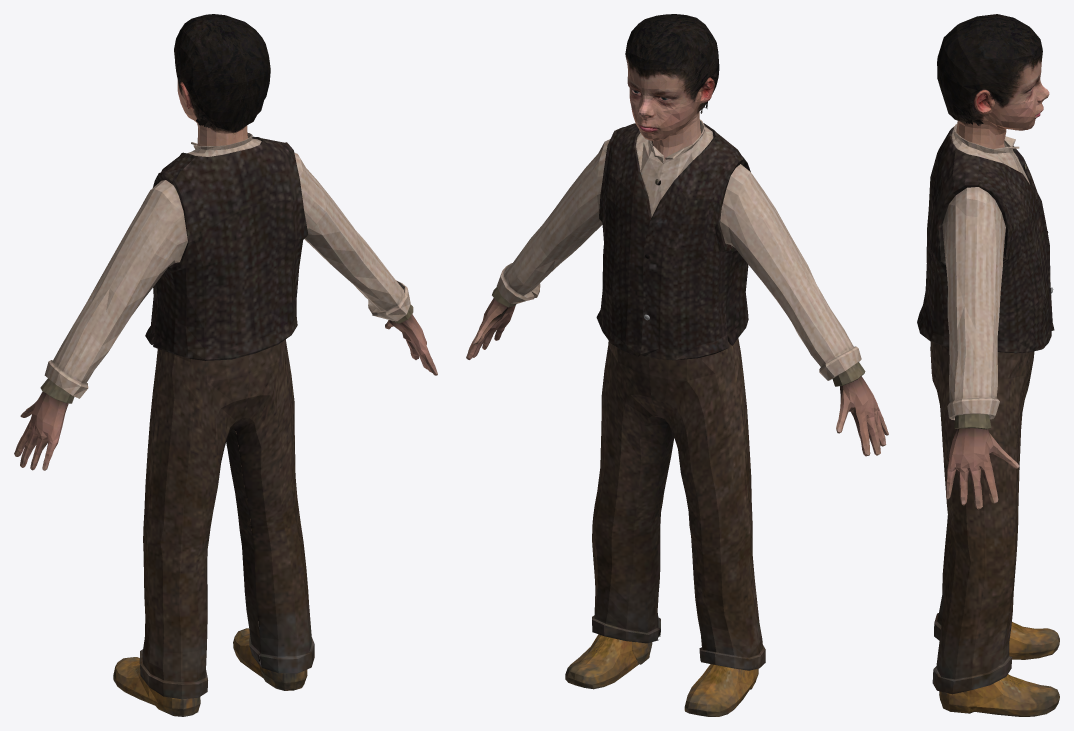
The model's file is Roger Parslow (Ben Walker).obj.
3 views of the same model, side by side, from view 1: azimuth 30°, elevation 25°; view 2: azimuth 150°, elevation 25°; view 3: azimuth 270°, elevation 25° (orthographic).
Parts seen in each view (by area): view 1: freddi_hightmore_.001, freddi_hightmore_, freddi_hightmore_fred; view 2: freddi_hightmore_.001, freddi_hightmore_, freddi_hightmore_fred; view 3: freddi_hightmore_, freddi_hightmore_.001, freddi_hightmore_fred.
Part boxes in pixels (x1=…): freddi_hightmore_.001: x1=14, y1=314, x2=437, y2=716; freddi_hightmore_: x1=40, y1=133, x2=413, y2=403; freddi_hightmore_fred: x1=174, y1=14, x2=270, y2=145; freddi_hightmore_.001: x1=466, y1=298, x2=888, y2=716; freddi_hightmore_: x1=492, y1=119, x2=865, y2=386; freddi_hightmore_fred: x1=625, y1=14, x2=719, y2=160; freddi_hightmore_: x1=917, y1=124, x2=1054, y2=429; freddi_hightmore_.001: x1=930, y1=342, x2=1059, y2=716; freddi_hightmore_fred: x1=937, y1=14, x2=1049, y2=149.
Size of the model in its own units: 0.8734 by 1.36 by 0.2664.
Materials: 4 (4 with a texture image).
